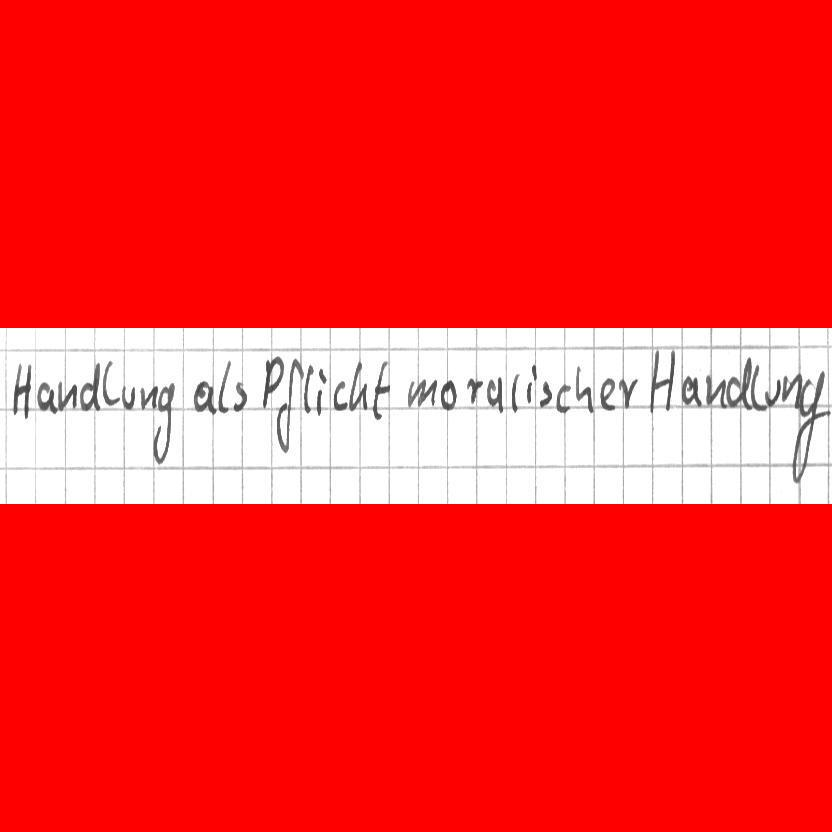Char: (788, 373, 826, 482), (275, 360, 303, 454), (150, 382, 174, 463), (646, 347, 675, 413), (725, 357, 752, 411), (371, 358, 391, 424), (261, 353, 284, 409), (10, 361, 31, 421), (573, 361, 594, 414), (407, 373, 437, 410), (80, 363, 100, 413), (102, 359, 122, 406), (347, 361, 365, 413), (216, 360, 233, 414), (36, 380, 58, 415), (781, 373, 803, 407), (192, 379, 212, 415), (598, 375, 618, 411), (750, 363, 765, 411), (56, 379, 77, 412), (681, 375, 702, 407), (618, 376, 637, 410), (302, 364, 315, 413), (706, 373, 725, 406), (138, 383, 159, 411), (486, 376, 502, 412), (554, 382, 572, 414), (439, 378, 457, 409), (763, 377, 781, 407), (507, 371, 520, 412), (466, 376, 482, 407), (331, 380, 346, 412), (316, 366, 326, 414), (233, 381, 249, 411), (525, 364, 536, 407), (538, 378, 552, 409), (123, 384, 138, 410)
